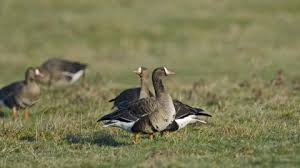goose: (93, 65, 178, 146), (1, 65, 44, 123), (110, 62, 151, 109)
